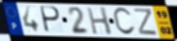2: (67, 6, 91, 35)
4: (23, 5, 42, 33)
C: (112, 6, 137, 37)
H: (85, 6, 114, 36)
P: (40, 5, 63, 34)
Z: (133, 8, 159, 37)
